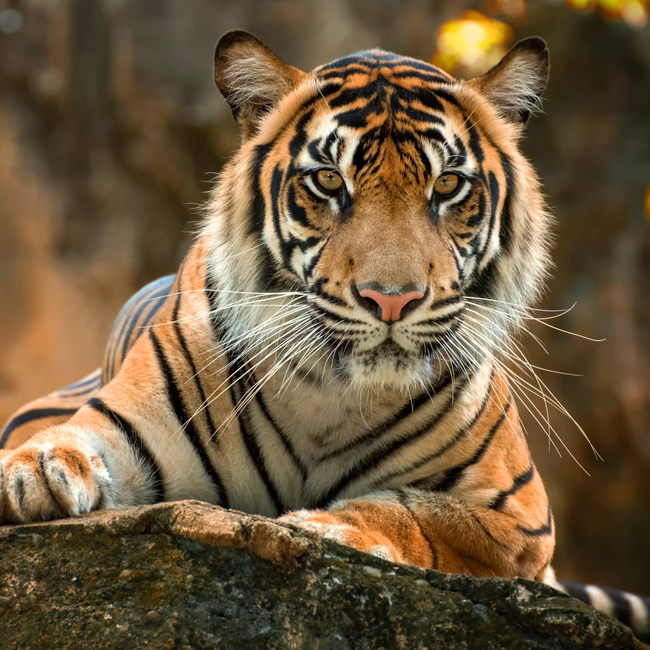tiger: (4, 27, 559, 590)
